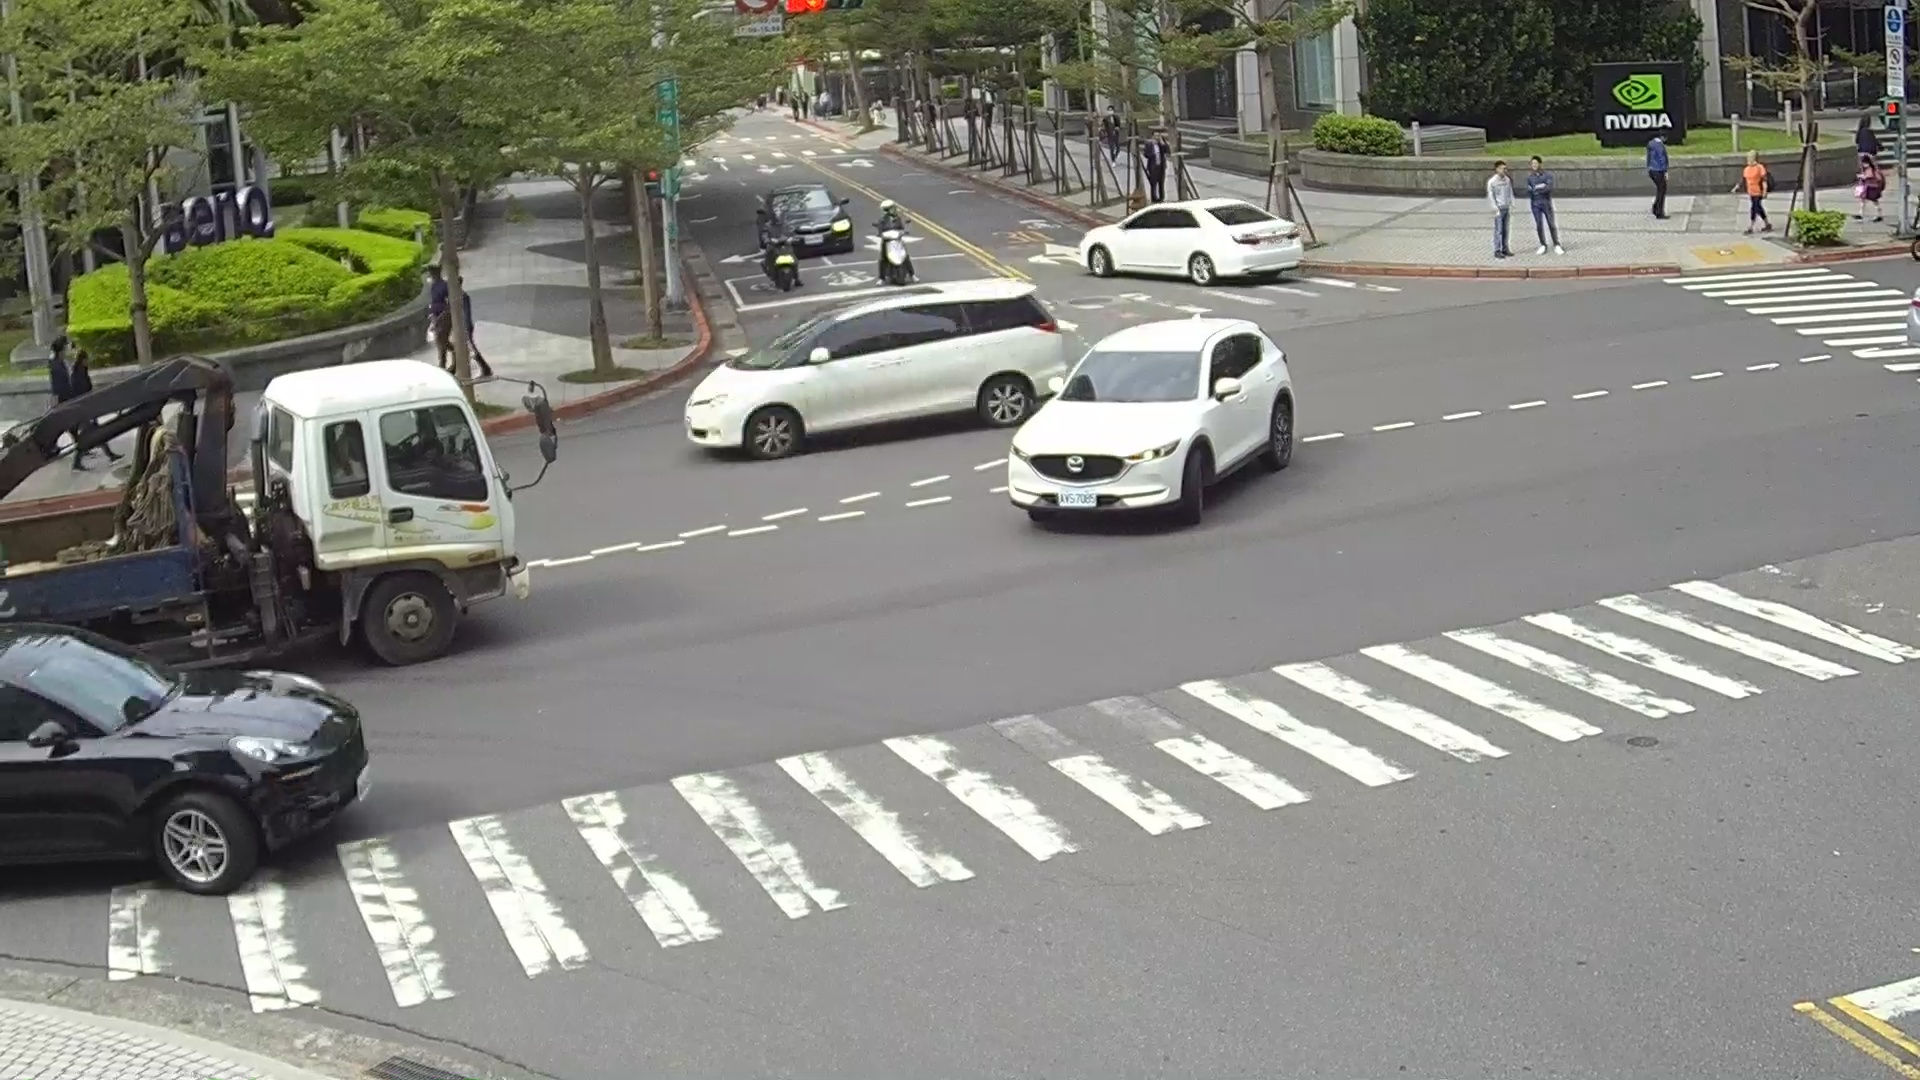bike: (874, 230, 918, 285), (761, 241, 802, 291)
pedestrian: (448, 280, 492, 381), (1522, 154, 1563, 254), (426, 266, 454, 371), (1740, 150, 1774, 234), (1487, 159, 1515, 255), (1645, 129, 1673, 218), (1850, 152, 1885, 225), (47, 339, 78, 405), (1136, 138, 1165, 207), (1100, 106, 1131, 163), (874, 200, 909, 238)
vehicle: (1, 316, 543, 692), (1, 623, 366, 897), (682, 277, 1070, 460), (1007, 314, 1294, 525), (1073, 197, 1307, 284), (754, 182, 855, 261)
